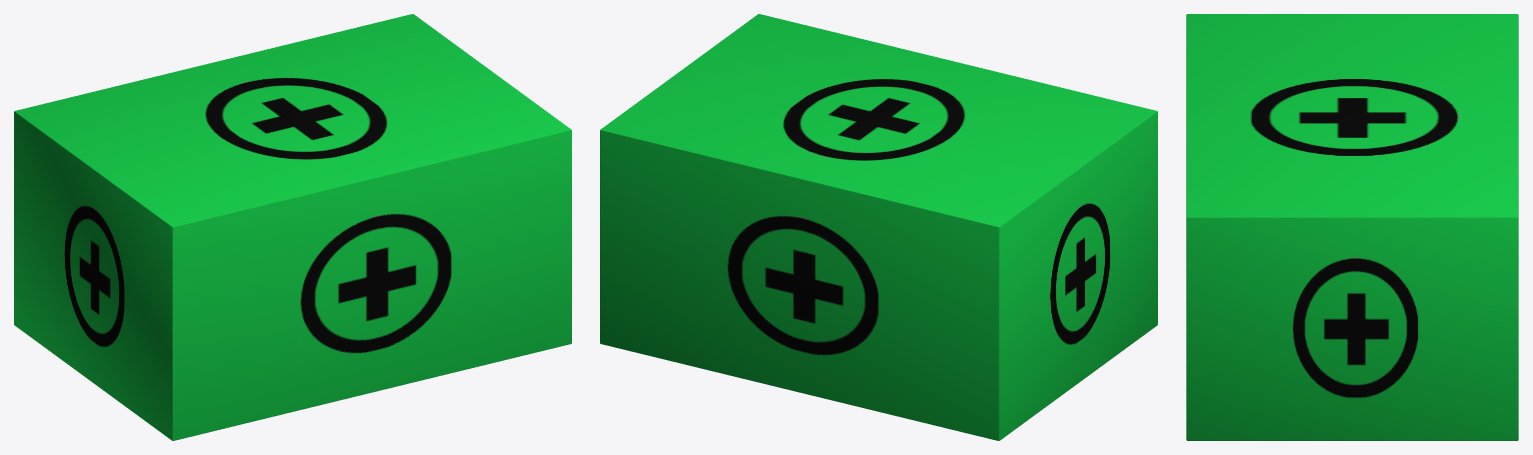
The model's file is Medic!_exported.FBX.
3 renders of one model, left to right at view 1: azimuth 30°, elevation 25°; view 2: azimuth 150°, elevation 25°; view 3: azimuth 270°, elevation 25°, orthographic. The views are drawn at different scales.
Visible parts, largest first — view 1: Box001; view 2: Box001; view 3: Box001.
Part boxes in pixels (box(x1,y1,x2,y2)): Box001: box(14, 14, 571, 440); Box001: box(600, 14, 1157, 440); Box001: box(1186, 14, 1518, 440).
Size of the model in its own units: 29.91 by 15.33 by 20.6.
Materials: 1 (1 with a texture image).
